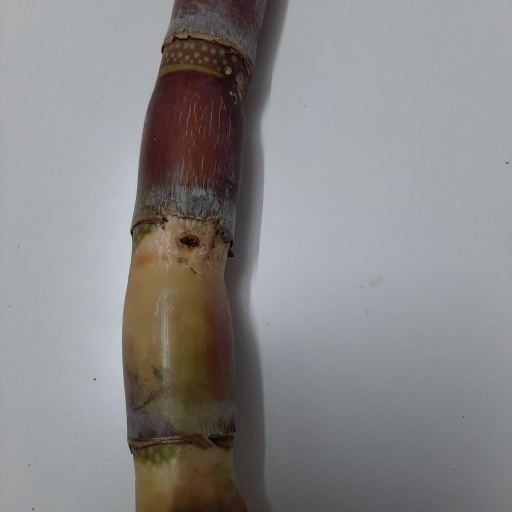Damage_Bud: (175, 230, 200, 251)
